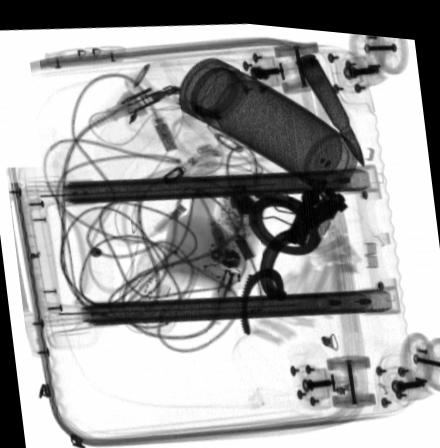Bullet: (295, 47, 363, 160)
HandCuffs: (237, 169, 351, 333)
